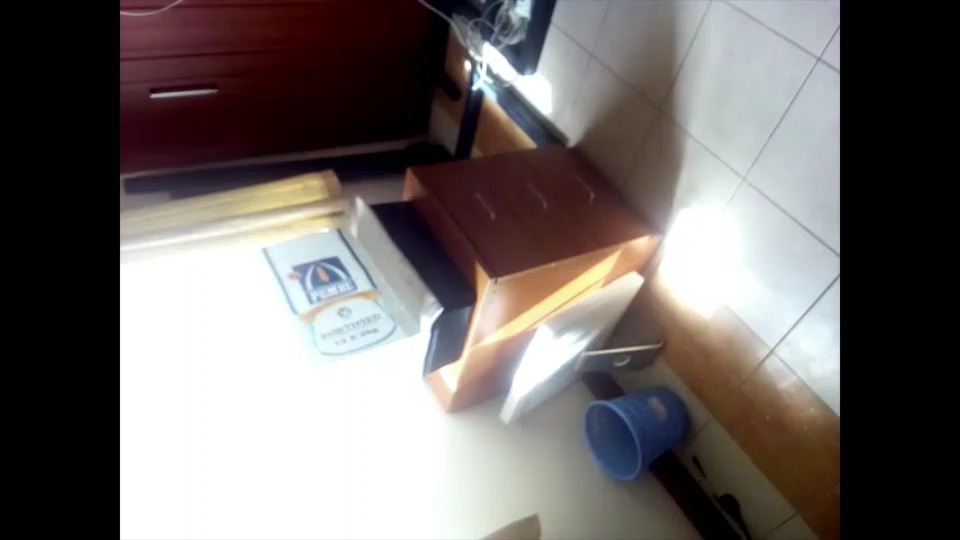wheat_flour_blue_label: (258, 227, 418, 392)
